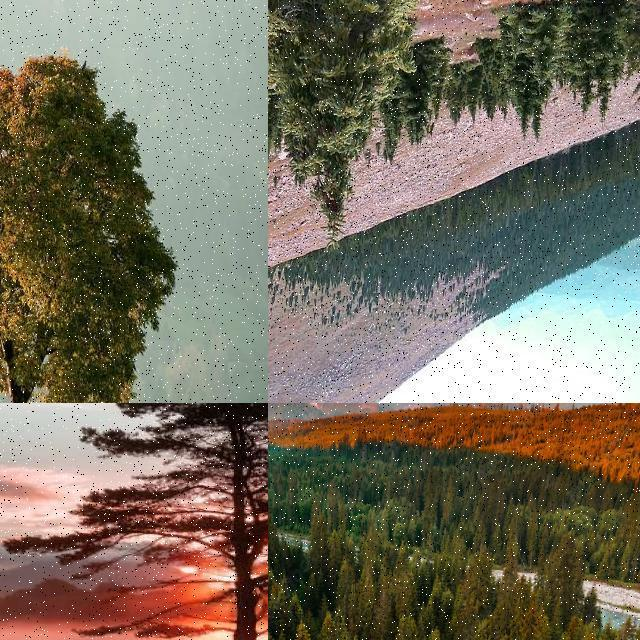tree: (0, 37, 168, 403), (267, 0, 468, 254), (80, 403, 267, 640), (576, 0, 632, 126), (508, 0, 576, 84), (399, 36, 449, 148), (504, 62, 552, 146), (268, 86, 296, 222), (624, 0, 640, 132), (442, 68, 474, 132), (310, 500, 332, 592), (472, 35, 504, 97), (366, 576, 394, 640), (378, 95, 402, 165), (268, 534, 284, 622), (562, 540, 582, 608), (268, 525, 286, 599), (268, 488, 282, 580), (545, 544, 563, 604), (334, 556, 354, 608), (268, 135, 280, 215), (524, 510, 540, 568), (268, 146, 282, 208), (268, 160, 280, 230), (568, 506, 596, 534), (504, 528, 520, 576), (442, 478, 458, 526), (584, 583, 604, 621), (534, 604, 552, 640), (288, 474, 304, 514), (416, 559, 432, 597), (268, 494, 276, 568), (289, 622, 317, 640), (317, 611, 334, 640), (600, 552, 616, 580), (268, 172, 276, 226), (422, 593, 434, 627), (612, 620, 632, 640), (618, 550, 630, 582), (430, 574, 442, 606), (268, 481, 276, 529), (268, 523, 276, 569), (491, 522, 503, 552), (474, 522, 486, 552), (420, 627, 447, 640), (268, 220, 276, 260), (268, 504, 276, 544), (268, 554, 276, 594), (409, 514, 419, 544), (393, 520, 403, 546), (458, 628, 474, 640), (268, 596, 274, 620)
